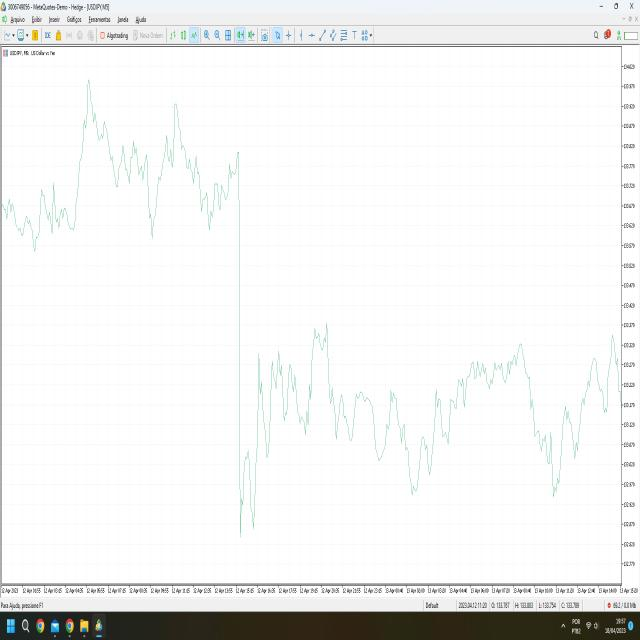fundo_duplo: (226, 426, 264, 567)
oco: (153, 77, 210, 242)
oco_inv: (520, 385, 591, 515)
